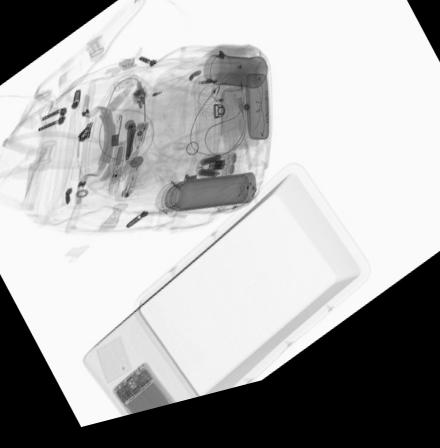Lighter: (119, 161, 145, 203)
